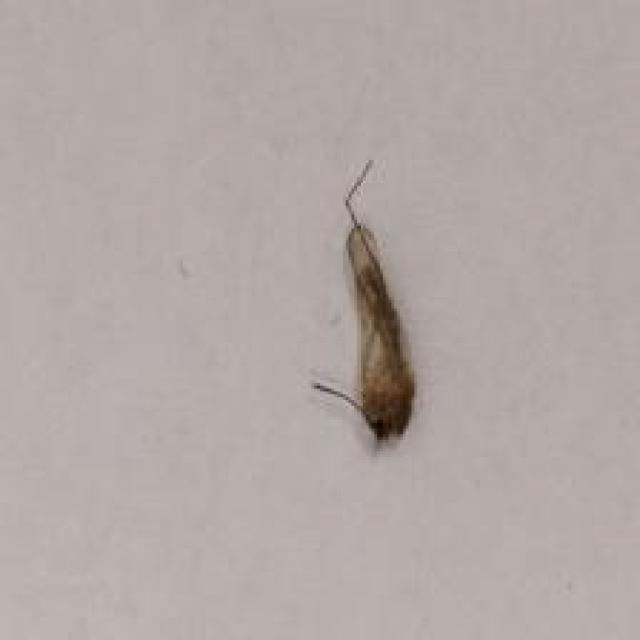Culex: (312, 157, 417, 452)
